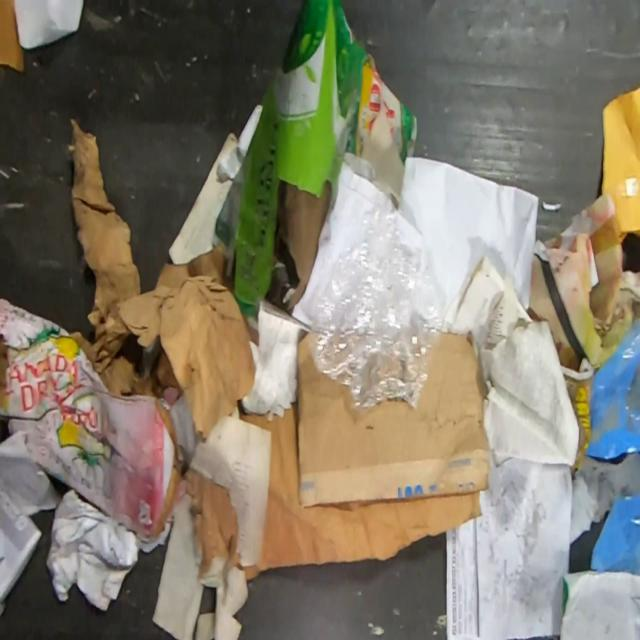cardboard: (66, 117, 258, 442), (232, 0, 420, 316), (0, 295, 180, 544), (240, 400, 484, 581), (296, 330, 491, 507), (290, 151, 400, 326), (180, 468, 242, 579), (0, 0, 28, 74)
soft_plastic: (306, 188, 446, 414), (582, 314, 640, 462), (0, 428, 64, 531), (588, 490, 640, 578)
